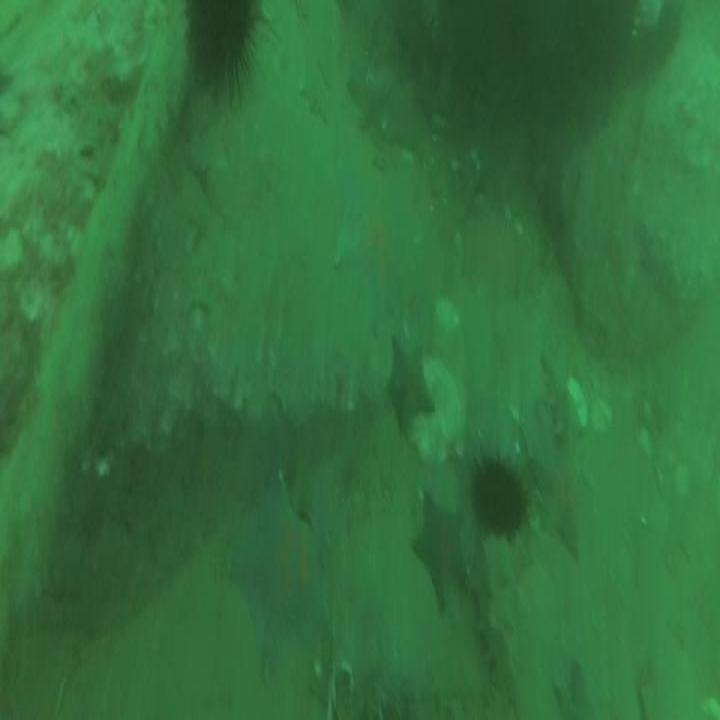scallop: (185, 2, 253, 80), (475, 464, 526, 535)
starfish: (223, 485, 332, 672), (332, 159, 421, 326), (527, 416, 586, 551), (413, 498, 467, 608), (384, 338, 435, 437)
